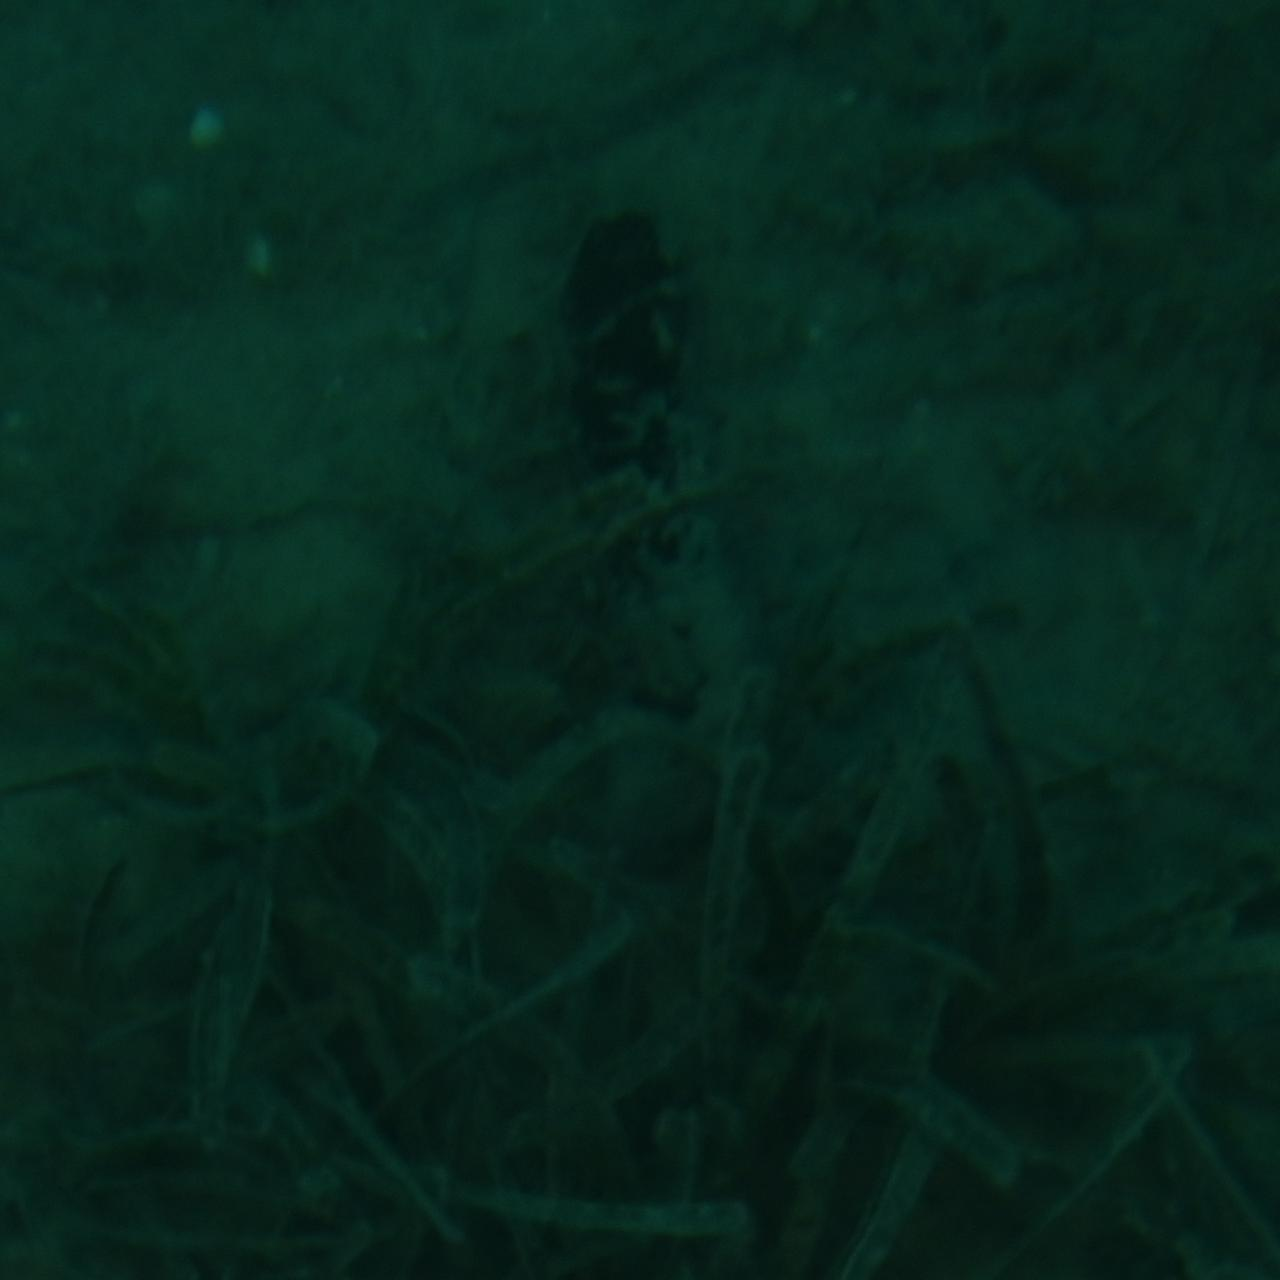Holothuria tubulosa: (554, 185, 726, 619)
